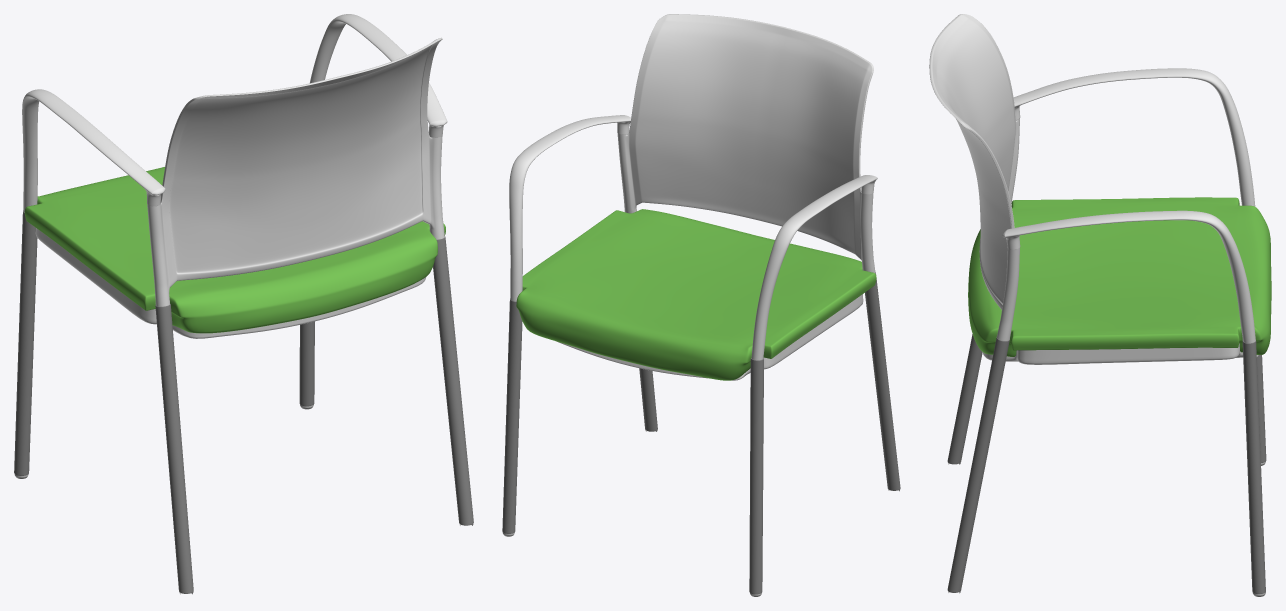
Rendered from chair.gltf.
3 views of the same model, side by side, from view 1: azimuth 30°, elevation 25°; view 2: azimuth 150°, elevation 25°; view 3: azimuth 270°, elevation 25° (orthographic). The views are drawn at different scales.
Visible parts, largest first — view 1: Back, Seat_cushion, Legs, Arms, Seat; view 2: Back, Seat_cushion, Legs, Arms, Seat; view 3: Seat_cushion, Back, Legs, Arms, Seat.
Boxes of the visible parts, x1=… form: Back: x1=147, y1=37, x2=444, y2=306; Seat_cushion: x1=24, y1=167, x2=445, y2=333; Legs: x1=14, y1=210, x2=473, y2=593; Arms: x1=22, y1=14, x2=447, y2=212; Seat: x1=35, y1=228, x2=425, y2=338; Back: x1=617, y1=14, x2=875, y2=272; Seat_cushion: x1=516, y1=209, x2=876, y2=380; Legs: x1=502, y1=272, x2=900, y2=594; Arms: x1=509, y1=115, x2=877, y2=360; Seat: x1=557, y1=294, x2=863, y2=380; Seat_cushion: x1=968, y1=197, x2=1271, y2=356; Back: x1=929, y1=14, x2=1019, y2=340; Legs: x1=947, y1=334, x2=1266, y2=593; Arms: x1=1002, y1=68, x2=1255, y2=343; Seat: x1=982, y1=343, x2=1258, y2=364.
Bounding box in the file's own units: 1.13 × 1.62 × 1.08.
